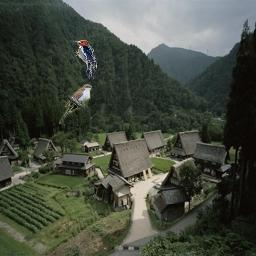Cuckoo: (59, 84, 92, 124)
Woodpecker: (73, 40, 97, 80)
